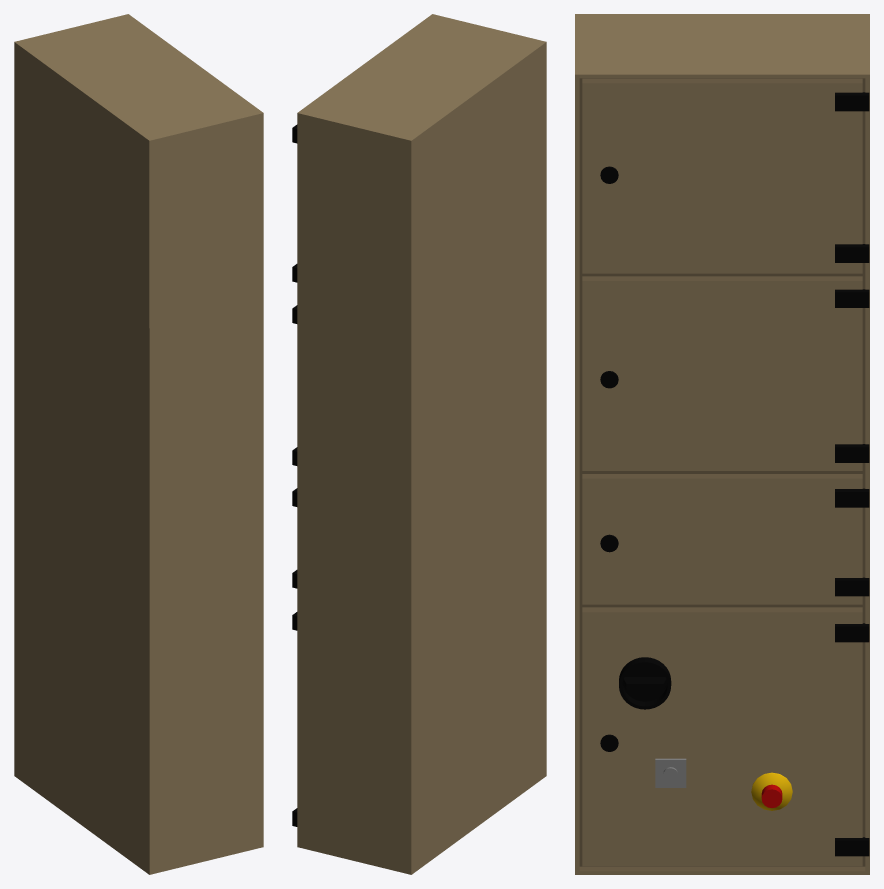
File: light brown box.fbx
3 renders of one model, left to right at view 1: azimuth 30°, elevation 25°; view 2: azimuth 150°, elevation 25°; view 3: azimuth 270°, elevation 25°, orthographic. The views are drawn at different scales.
Visible parts, largest first — view 1: Cube; view 2: Cube; view 3: Cube.
Boxes of the visible parts, bbox=[...] form: Cube: bbox=[14, 14, 263, 874]; Cube: bbox=[292, 14, 546, 874]; Cube: bbox=[575, 14, 869, 874].
Size of the model in its own units: 110 by 599 by 200.
Materials: 1 (1 with a texture image).
